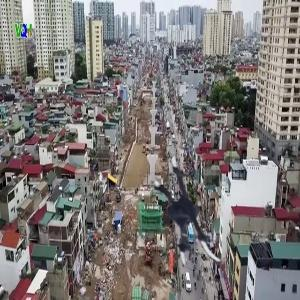drone: (139, 155, 255, 271)
